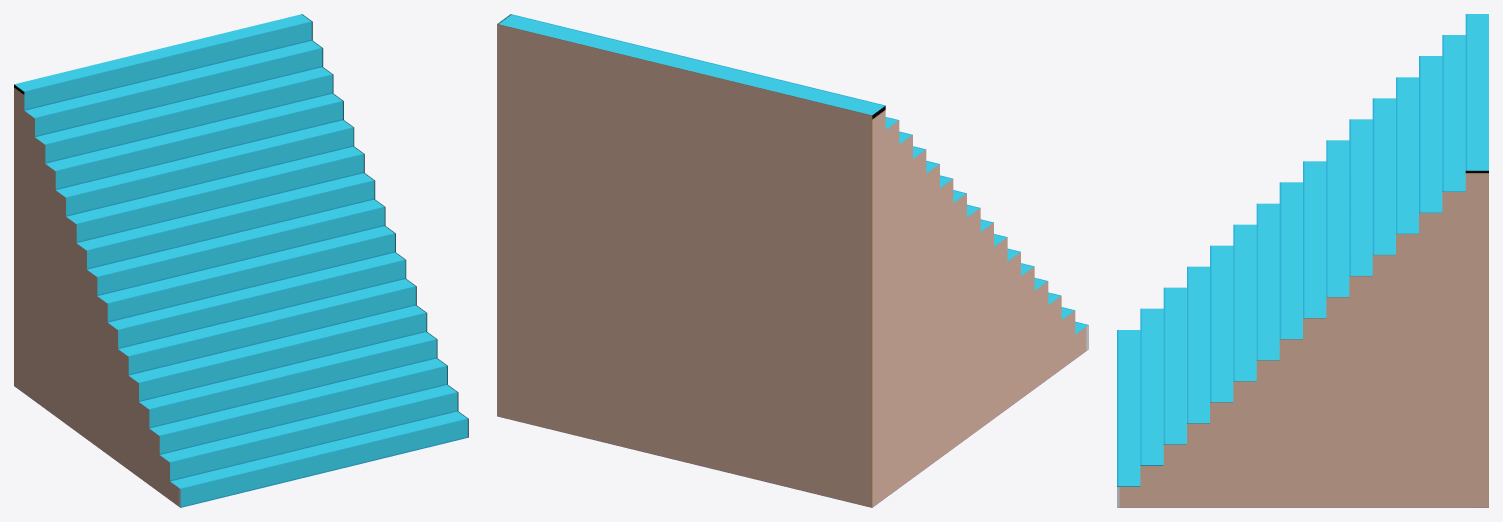
File: MK_Stairs_Trim_B_Wall_B.fbx
The picture shows the model from 3 angles, left to right: view 1: azimuth 30°, elevation 25°; view 2: azimuth 150°, elevation 25°; view 3: azimuth 270°, elevation 25°; orthographic projection. The views are drawn at different scales.
Parts seen in each view (by area): view 1: Stairs_Trim_B_Wall_B; view 2: Stairs_Trim_B_Wall_B; view 3: Stairs_Trim_B_Wall_B.
Part boxes in pixels (x1,y1,x2,y2): Stairs_Trim_B_Wall_B: (14,14,468,507); Stairs_Trim_B_Wall_B: (497,14,1088,507); Stairs_Trim_B_Wall_B: (1117,14,1488,507).
Bounding box in the file's own units: 180 × 180 × 180.
1 material, 1 textured.
